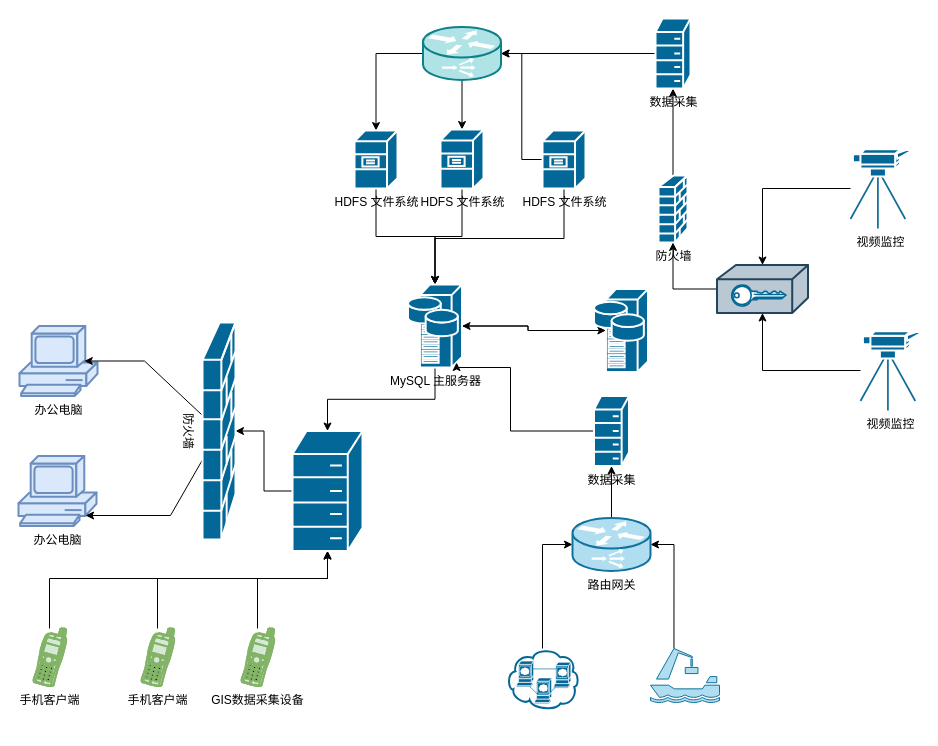
Some shapes in this 938 by 746 pixel diagram are drawn without their labels. Here are the shapes that lost their labels. From the top down, the centre of each, then its label:
At (462,53): "交换机/路由".
At (762,289): "专用网关".
At (620,330): "MySQL 从服务器".
At (327,491): "Web应用服务器".
At (542,678): "第三方服务器".
At (685,675): "船舶自动识别系统".
